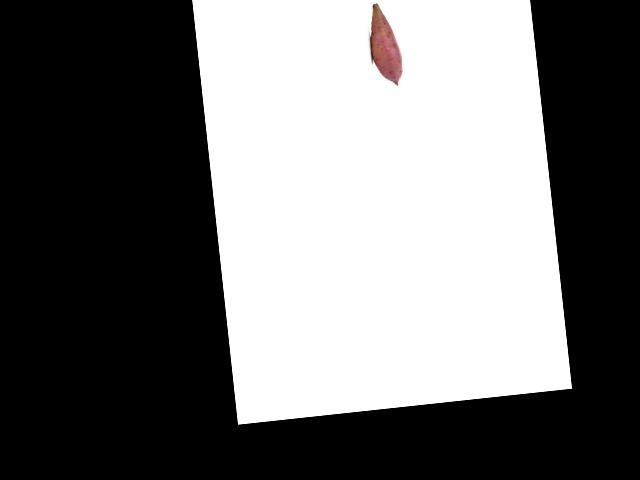sweet_potato: (368, 1, 404, 88)
